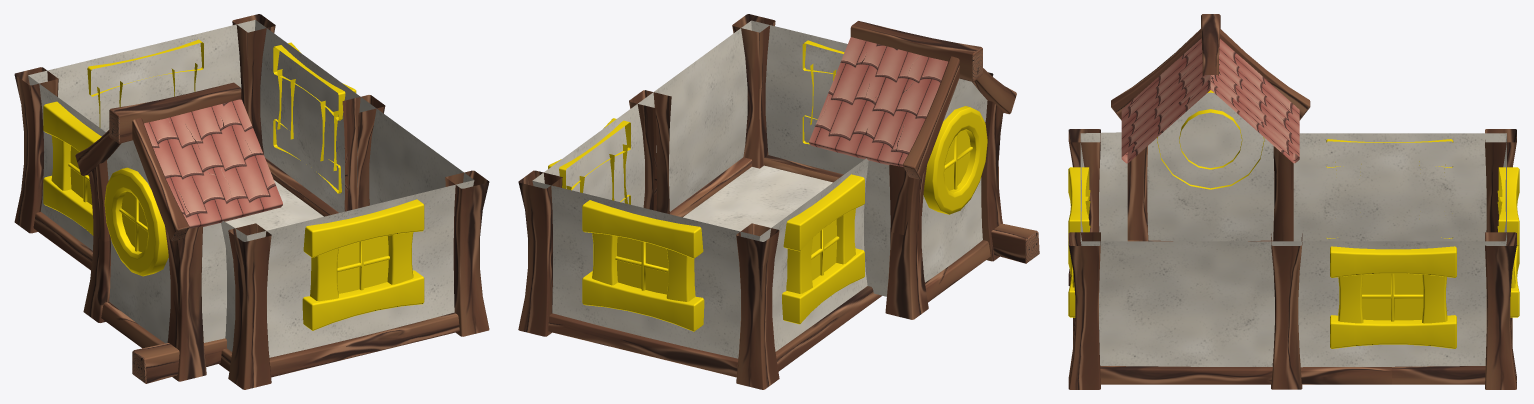
The model's file is house_top_floor3_w_ground2.FBX.
3 renders of one model, left to right at view 1: azimuth 30°, elevation 25°; view 2: azimuth 150°, elevation 25°; view 3: azimuth 270°, elevation 25°, orthographic. The views are drawn at different scales.
Visible parts, largest first — view 1: top_floor003; view 2: top_floor003; view 3: top_floor003.
Boxes of the visible parts, x1,y1,x2,y2 form: top_floor003: (14, 14, 489, 389); top_floor003: (518, 14, 1039, 389); top_floor003: (1068, 14, 1519, 389).
Bounding box in the file's own units: 462 × 330 × 580.
